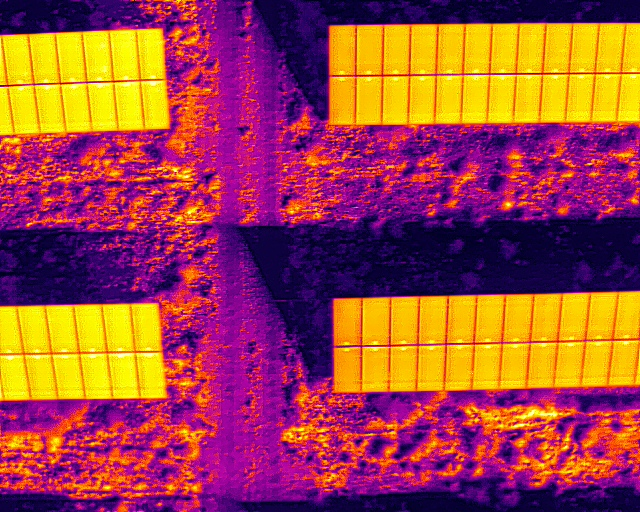photovoltaic_panels: (327, 21, 638, 124), (332, 289, 638, 393), (1, 27, 171, 136), (0, 302, 167, 400)
